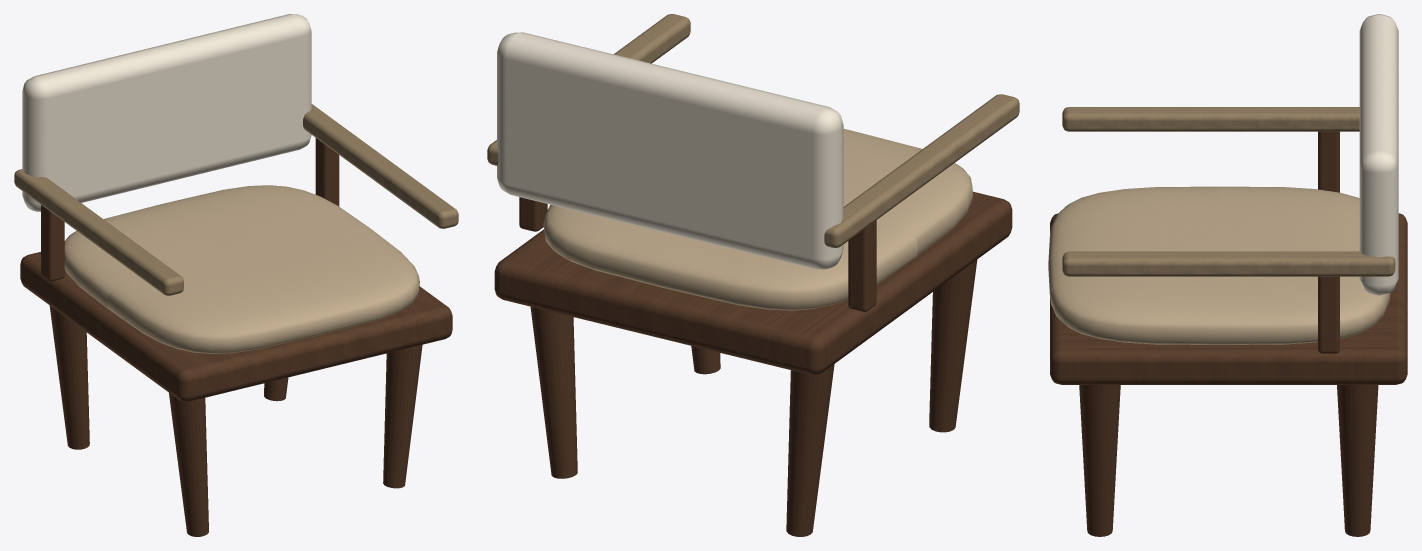
File: lounge-chair.glb
3 views of the same model, side by side, from view 1: azimuth 30°, elevation 25°; view 2: azimuth 150°, elevation 25°; view 3: azimuth 270°, elevation 25° (orthographic). The views are drawn at different scales.
Parts seen in each view (by area): view 1: 软包织物 / 鼓包枕芯, 奶油圈圈绒, 浅胡桃木 (×6), 浅烟熏白橡木 (×2); view 2: 奶油圈圈绒, 浅胡桃木 (×7), 软包织物 / 鼓包枕芯, 浅烟熏白橡木 (×2); view 3: 软包织物 / 鼓包枕芯, 浅胡桃木 (×5), 浅烟熏白橡木 (×2), 奶油圈圈绒.
Part boxes in pixels (x1,y1,x2,y2): 软包织物 / 鼓包枕芯: (64, 185, 419, 353); 奶油圈圈绒: (22, 14, 311, 211); 浅胡桃木 (×6): (20, 138, 452, 536); 浅烟熏白橡木 (×2): (14, 104, 458, 295); 奶油圈圈绒: (497, 32, 843, 269); 浅胡桃木 (×7): (494, 191, 1012, 536); 软包织物 / 鼓包枕芯: (543, 129, 973, 310); 浅烟熏白橡木 (×2): (487, 14, 1019, 247); 软包织物 / 鼓包枕芯: (1048, 186, 1390, 344); 浅胡桃木 (×5): (1050, 131, 1407, 536); 浅烟熏白橡木 (×2): (1062, 107, 1395, 276); 奶油圈圈绒: (1359, 14, 1398, 295).
Bounding box in the file's own units: 0.84 × 1 × 0.82.
4 materials, 4 textured.
